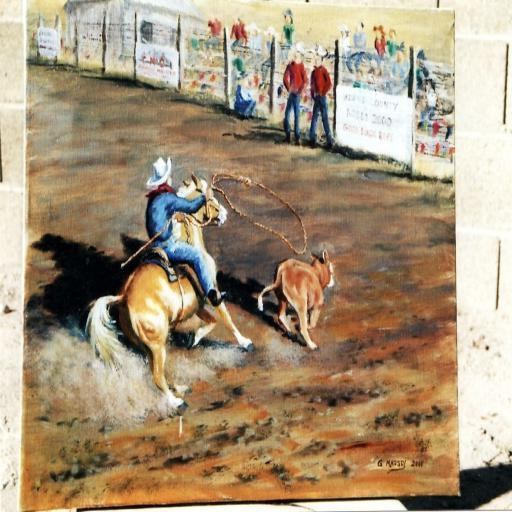horse: (84, 171, 254, 414)
